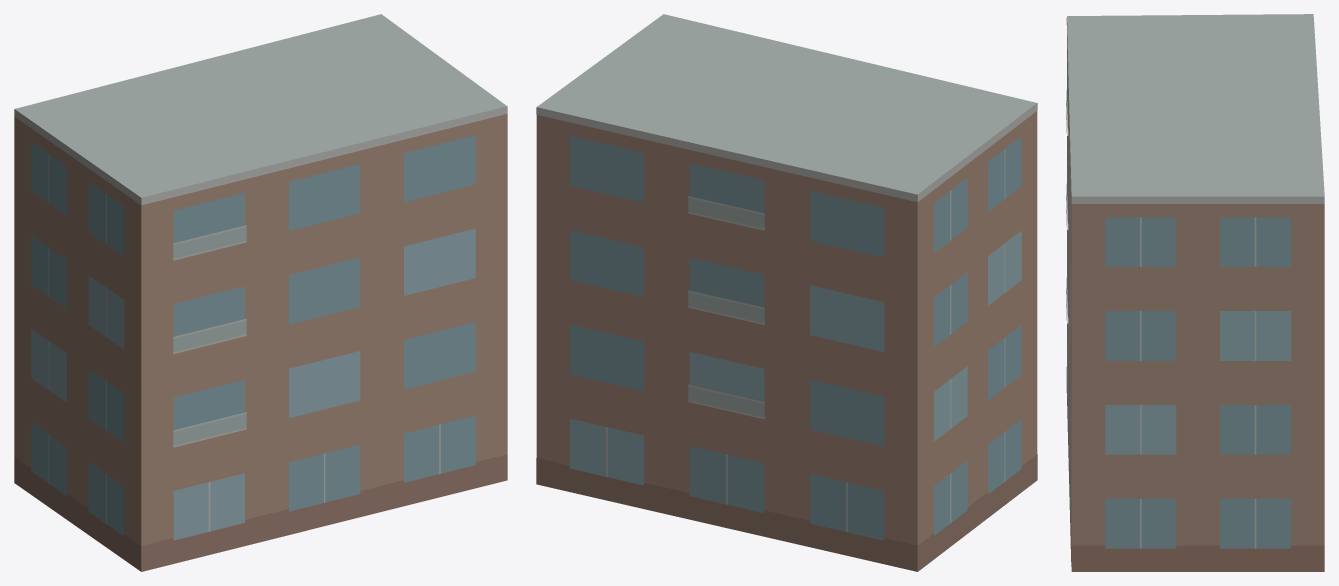
File: survey-upis-32616410.glb
The picture shows the model from 3 angles, left to right: view 1: azimuth 30°, elevation 25°; view 2: azimuth 150°, elevation 25°; view 3: azimuth 270°, elevation 25°; orthographic projection.
Visible parts, largest first — view 1: survey-upis-32616410.tmp; view 2: survey-upis-32616410.tmp; view 3: survey-upis-32616410.tmp.
Boxes of the visible parts, box(x1,y1,x2,y2) form: survey-upis-32616410.tmp: box(14, 14, 507, 571); survey-upis-32616410.tmp: box(536, 14, 1037, 571); survey-upis-32616410.tmp: box(1066, 14, 1324, 571).
Bounding box in the file's own units: 12.73 × 12.2 × 7.63.
